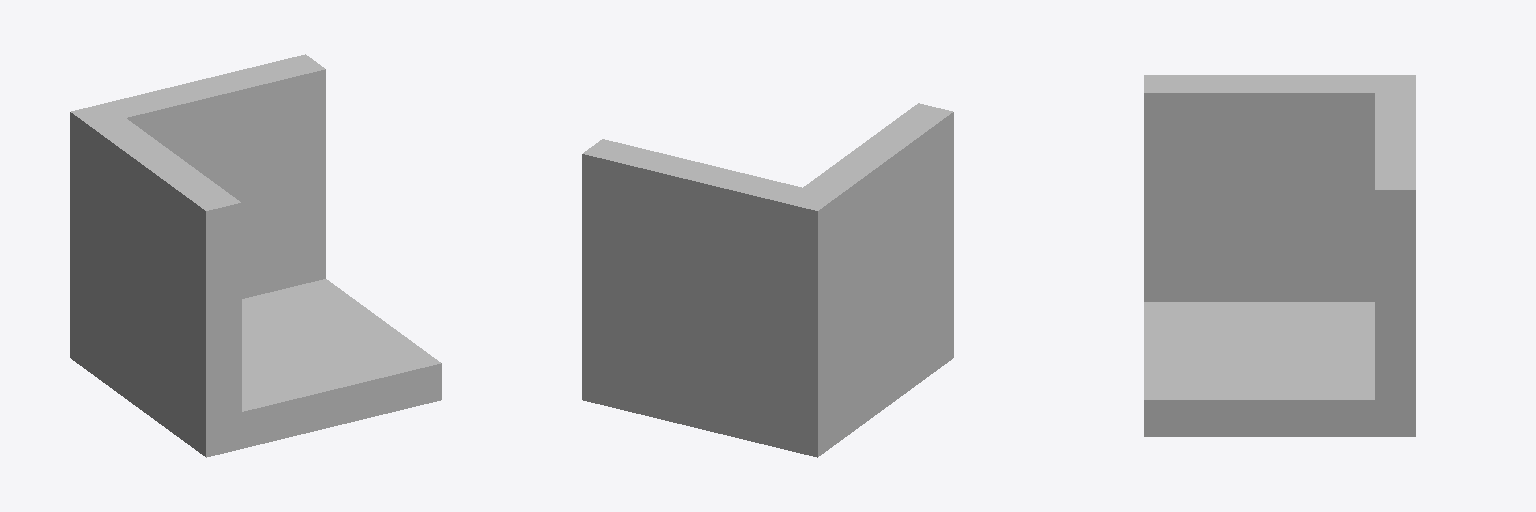
File: hs_corner_bottom.obj
3 renders of one model, left to right at view 1: azimuth 30°, elevation 25°; view 2: azimuth 150°, elevation 25°; view 3: azimuth 270°, elevation 25°, orthographic.
Visible parts, largest first — view 1: corner_bottom_Cube; view 2: corner_bottom_Cube; view 3: corner_bottom_Cube.
Part boxes in pixels (x1,y1,x2,y2): corner_bottom_Cube: (70, 54, 441, 457); corner_bottom_Cube: (582, 103, 953, 457); corner_bottom_Cube: (1144, 75, 1415, 436).
Bounding box in the file's own units: 2 × 2 × 2.